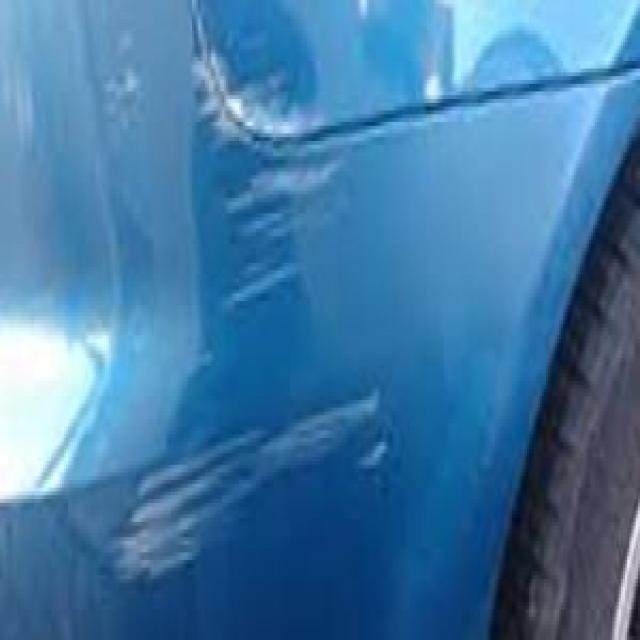scratch: (49, 69, 433, 598)
